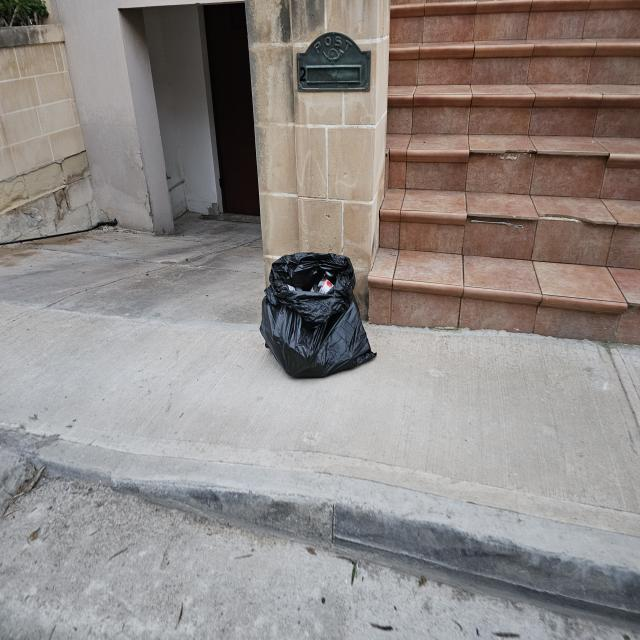black_bag: (257, 248, 380, 383)
